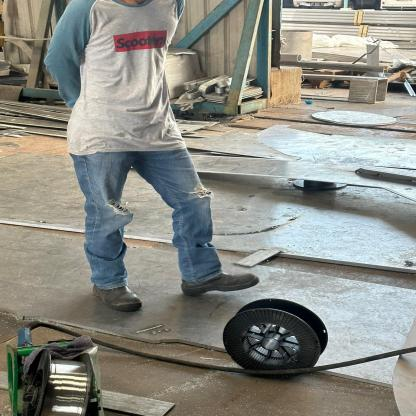bota: (171, 264, 265, 298), (88, 272, 146, 319)
